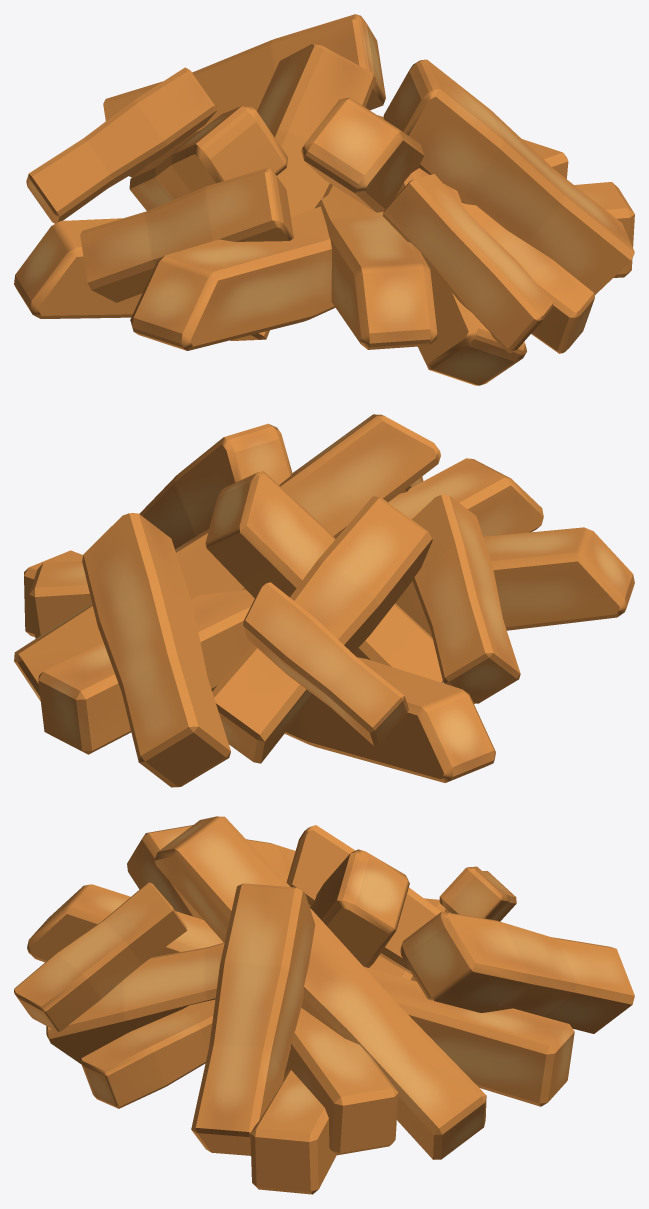
File: cookedfries.fbx
The picture shows the model from 3 angles, top to bottom: view 1: azimuth 30°, elevation 25°; view 2: azimuth 150°, elevation 25°; view 3: azimuth 270°, elevation 25°; orthographic projection. The views are drawn at different scales.
Visible parts, largest first — view 1: frypilecooked; view 2: frypilecooked; view 3: frypilecooked.
Boxes of the visible parts, left/top/right/bottom form: frypilecooked: left=14, top=14, right=634, bottom=385; frypilecooked: left=14, top=414, right=634, bottom=787; frypilecooked: left=14, top=816, right=634, bottom=1194.
Bounding box in the file's own units: 5.95 × 2.8 × 6.39.
Materials: 1 (1 with a texture image).
